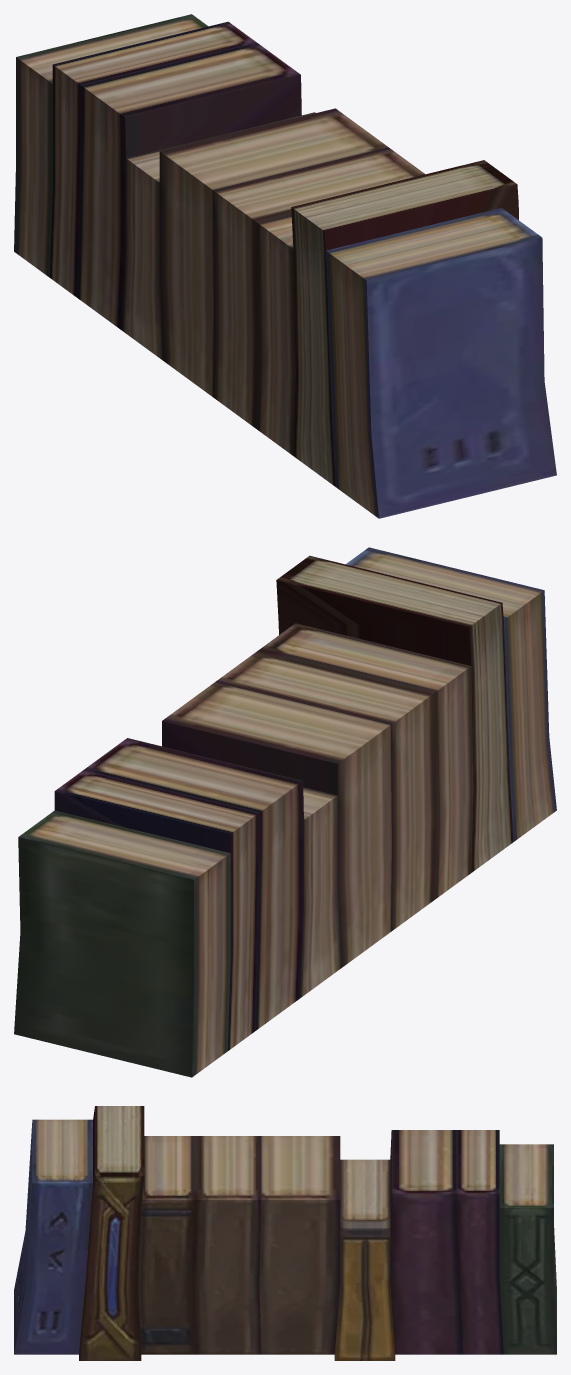
3 renders of one model, top to bottom at view 1: azimuth 30°, elevation 25°; view 2: azimuth 150°, elevation 25°; view 3: azimuth 270°, elevation 25°, orthographic. The views are drawn at different scales.
Bounding box in the file's own units: 0.511 × 0.6196 × 1.66.
Materials: 1 (1 with a texture image).
